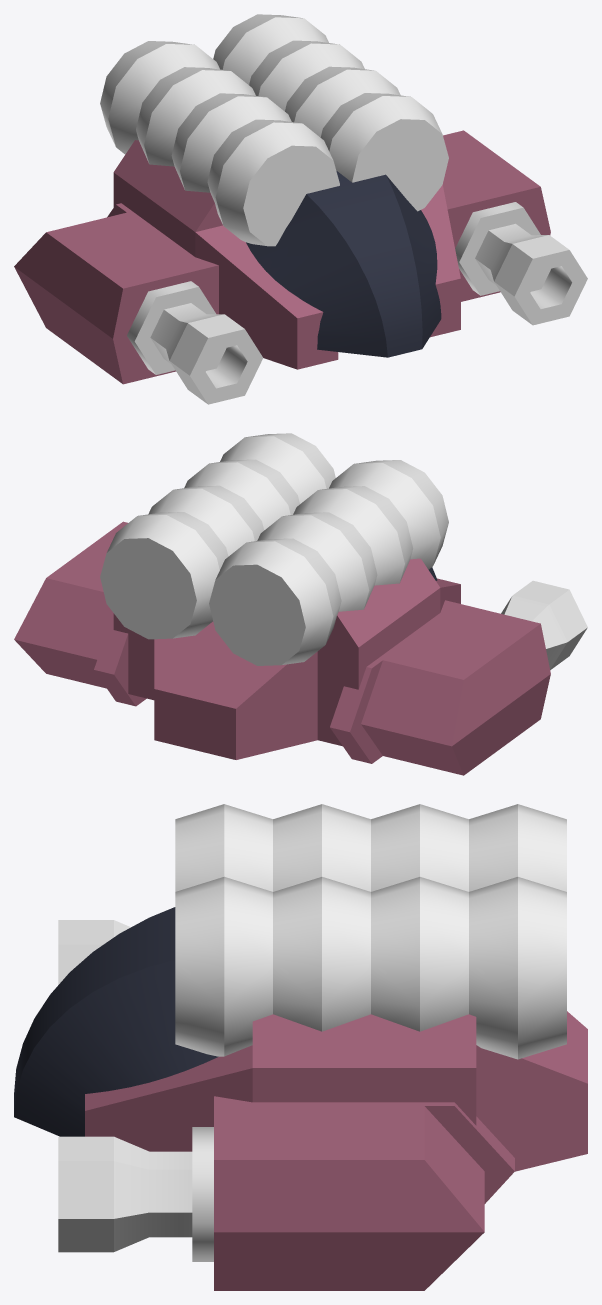
The model's file is flying_02_01.obj.
3 renders of one model, top to bottom at view 1: azimuth 30°, elevation 25°; view 2: azimuth 150°, elevation 25°; view 3: azimuth 270°, elevation 25°, orthographic. The views are drawn at different scales.
Visible parts, largest first — view 1: mergedBlocks; view 2: mergedBlocks; view 3: mergedBlocks.
Part boxes in pixels (left/top/right/bottom): mergedBlocks: left=14, top=14, right=587, bottom=404; mergedBlocks: left=14, top=433, right=587, bottom=775; mergedBlocks: left=14, top=804, right=587, bottom=1290.
Size of the model in its own units: 1.61 by 0.7775 by 1.34.
